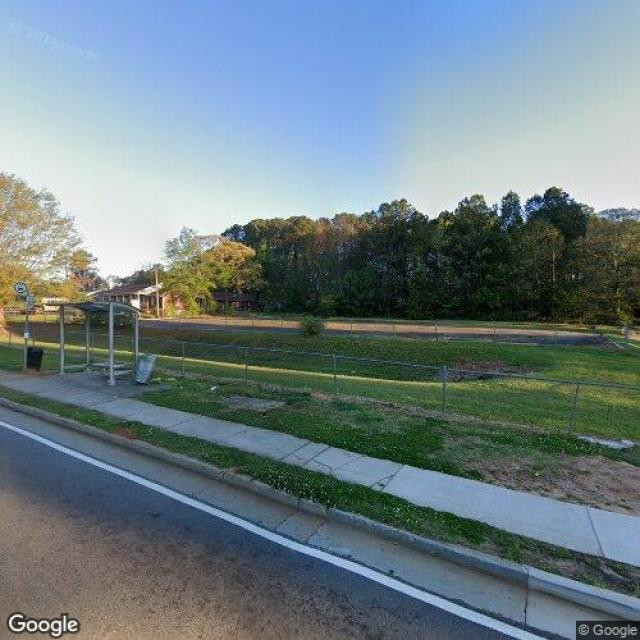seating: (87, 361, 124, 382)
shelter: (60, 302, 142, 385)
trash_can: (136, 353, 156, 383), (28, 346, 44, 372)
